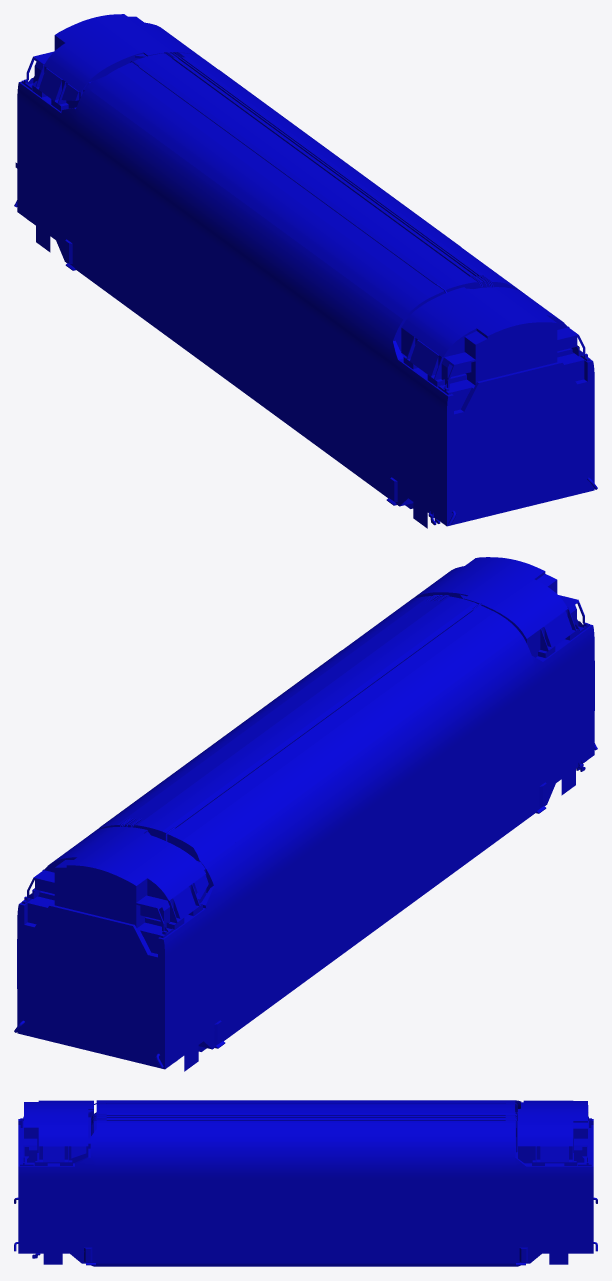
The picture shows the model from 3 angles, top to bottom: view 1: azimuth 30°, elevation 25°; view 2: azimuth 150°, elevation 25°; view 3: azimuth 270°, elevation 25°; orthographic projection. The views are drawn at different scales.
Visible parts, largest first — view 1: omneo 3.005Regio 2N STIF 8-car; view 2: omneo 3.005Regio 2N STIF 8-car; view 3: omneo 3.005Regio 2N STIF 8-car.
Part boxes in pixels (x1,y1,x2,y2): omneo 3.005Regio 2N STIF 8-car: (14,14,597,528); omneo 3.005Regio 2N STIF 8-car: (14,557,597,1071); omneo 3.005Regio 2N STIF 8-car: (14,1100,597,1266).
Size of the model in its own units: 3.08 by 4.32 by 15.27.
